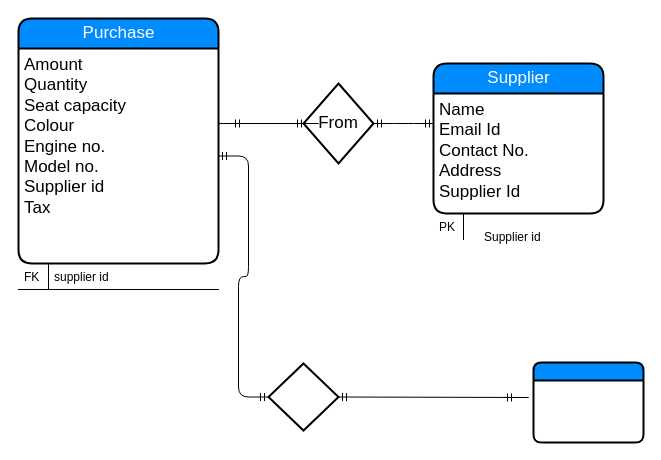
Some shapes in this 661 by 460 pixel diagram are drawn without their labels. Here are the shapes that lost their labels. From the top down, the centre of each, then its label:
At (x=303, y=396): "makes".
At (x=588, y=402): "Adminstrator".
